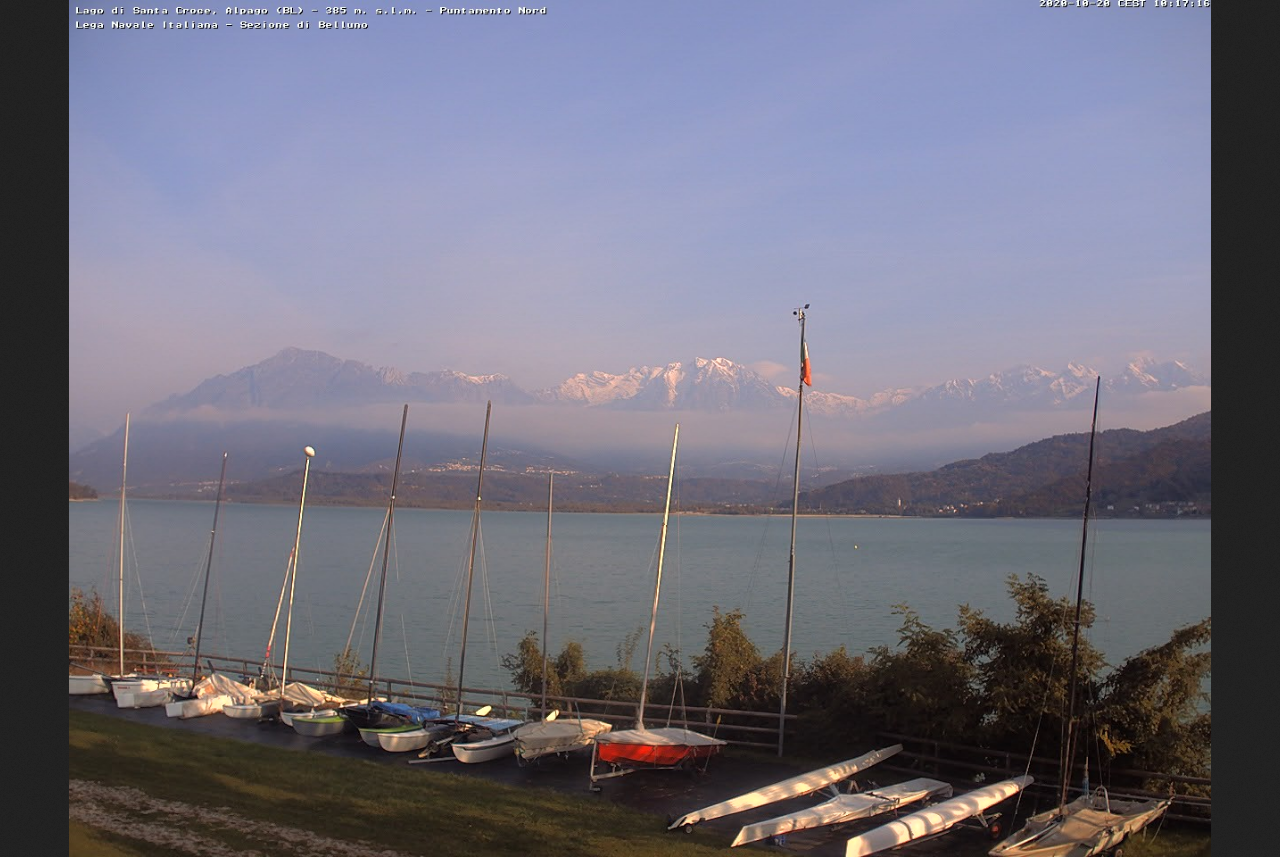no: (797, 314, 815, 388)
